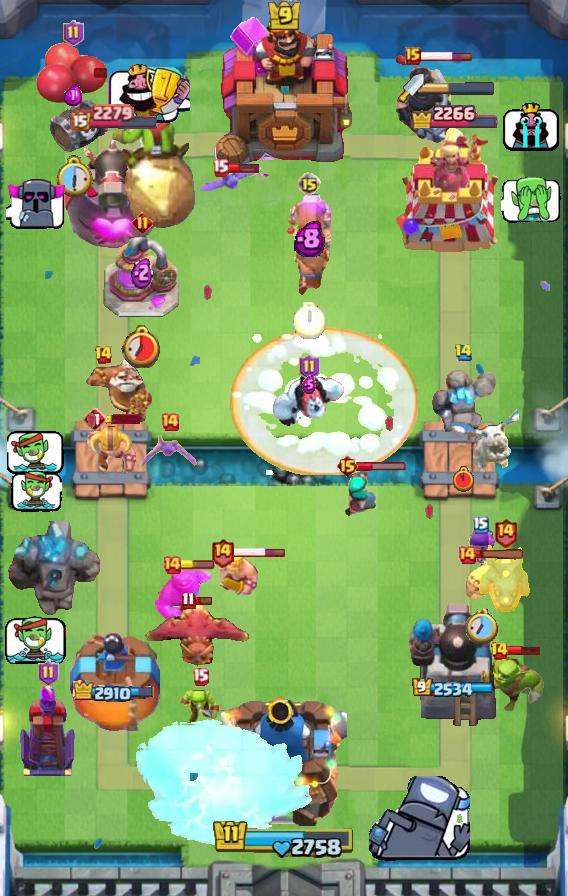archer: (214, 551, 260, 597)
bar: (394, 126, 512, 256)
barbarian: (140, 434, 200, 472), (199, 164, 265, 198)
bat-evolution: (465, 557, 499, 601)
battle-healer: (286, 194, 332, 298)
cannoneer-tower: (8, 521, 104, 619)
clock: (212, 818, 356, 860)
electro-spirit: (295, 219, 326, 257), (131, 255, 153, 289), (64, 85, 82, 107), (302, 374, 316, 393)
elixir: (121, 324, 163, 368), (55, 155, 94, 198), (293, 301, 325, 339), (466, 609, 498, 644), (453, 466, 474, 492)
elixir-collector: (83, 356, 153, 430)
emote: (419, 50, 473, 62), (232, 546, 286, 557), (474, 549, 526, 560), (356, 460, 407, 471), (225, 162, 258, 174), (506, 644, 542, 655), (104, 414, 140, 424), (179, 560, 215, 570), (193, 595, 213, 606)
flying-machine: (482, 655, 544, 711)
goblin: (468, 527, 497, 565)
goblin-giant: (85, 424, 139, 478)
graveyard: (478, 542, 532, 614)
ice-spirit-evolution-symbol: (17, 682, 79, 778)
inferno-dragon: (393, 54, 455, 146)
king-tower: (211, 7, 357, 181), (221, 690, 347, 826)
king-tower-bar: (424, 81, 496, 95)
mega-knight: (131, 716, 315, 852)
mini-pekka: (448, 408, 524, 480)
mother-witch: (144, 600, 252, 672)
pekka: (103, 237, 181, 319)
phoenix-big: (230, 327, 418, 475)
queen-tower: (68, 633, 160, 731)
rage: (271, 371, 347, 427)
royal-recruit-evolution: (35, 41, 111, 153)
selected: (408, 98, 498, 128), (68, 103, 159, 131), (72, 679, 155, 704), (412, 677, 494, 699)
skeleton: (370, 776, 471, 864), (106, 62, 190, 126), (5, 176, 66, 230), (502, 99, 560, 153), (5, 616, 67, 666), (501, 175, 561, 223), (7, 430, 65, 477), (10, 471, 61, 512)
text: (209, 536, 234, 567), (493, 517, 518, 547), (297, 172, 321, 196), (83, 407, 107, 431), (37, 660, 59, 686), (336, 454, 359, 478), (64, 20, 85, 46), (300, 354, 321, 380), (131, 211, 153, 233), (160, 412, 180, 432), (457, 545, 477, 565), (162, 555, 182, 575), (95, 345, 114, 365), (491, 641, 510, 661), (454, 343, 473, 361), (211, 159, 229, 177), (192, 666, 209, 685), (405, 47, 421, 65), (473, 516, 489, 534), (181, 591, 195, 609)
tornado: (155, 569, 211, 627)
tower-bar: (60, 132, 167, 256), (408, 599, 498, 731)
valkyrie-evolution: (426, 367, 500, 449)
witch: (343, 469, 381, 519)
x-bow: (108, 94, 198, 232)
zap: (179, 688, 221, 728)
